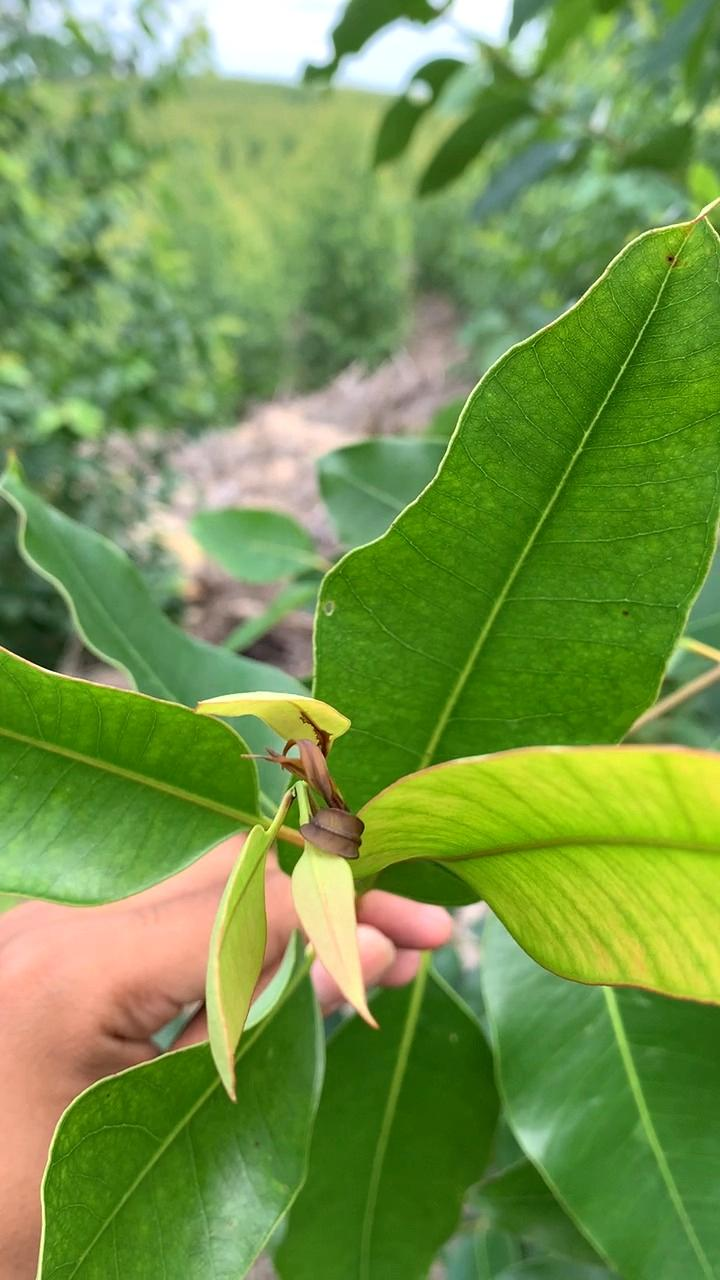Helopeltis-Withered Sprout: (266, 730, 373, 866)
